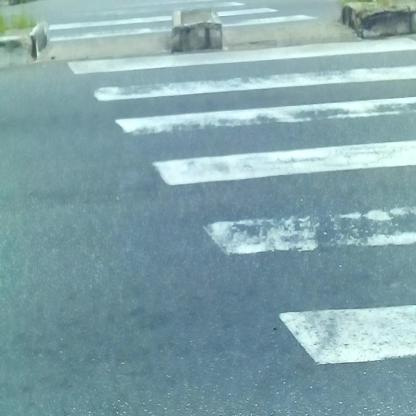crosswalk: (59, 53, 416, 371)
